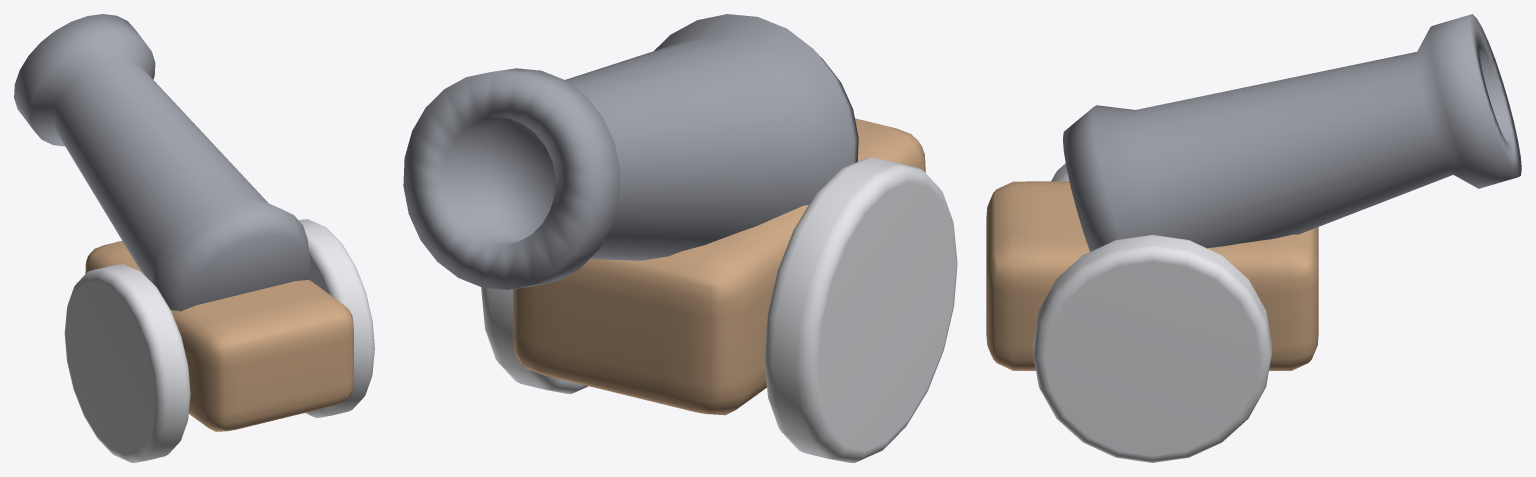
File: DiceDashCannon.glb
3 renders of one model, left to right at view 1: azimuth 30°, elevation 25°; view 2: azimuth 150°, elevation 25°; view 3: azimuth 270°, elevation 25°, orthographic. The views are drawn at different scales.
Parts seen in each view (by area): view 1: Barrel, Wheels, Carriage; view 2: Barrel, Wheels, Carriage; view 3: Barrel, Wheels, Carriage.
Part boxes in pixels (bbox=[...]): Barrel: bbox=[14, 14, 310, 311]; Wheels: bbox=[64, 219, 374, 462]; Carriage: bbox=[85, 241, 353, 431]; Barrel: bbox=[403, 14, 858, 289]; Wheels: bbox=[481, 157, 957, 462]; Carriage: bbox=[513, 118, 925, 415]; Barrel: bbox=[1063, 14, 1521, 251]; Wheels: bbox=[1033, 163, 1271, 462]; Carriage: bbox=[986, 181, 1318, 370].
Bounding box in the file's own units: 2.9 × 4.05 × 5.15.
